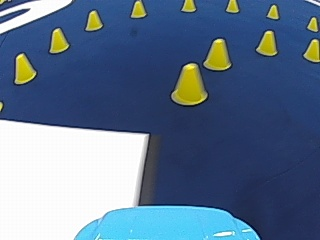cone: (171, 62, 207, 105), (203, 38, 232, 70), (13, 52, 36, 83), (255, 29, 278, 55), (48, 26, 69, 53), (84, 9, 102, 31), (303, 38, 319, 61), (130, 0, 146, 18), (266, 3, 279, 19), (225, 0, 239, 13), (180, 0, 195, 12), (306, 16, 318, 31)
